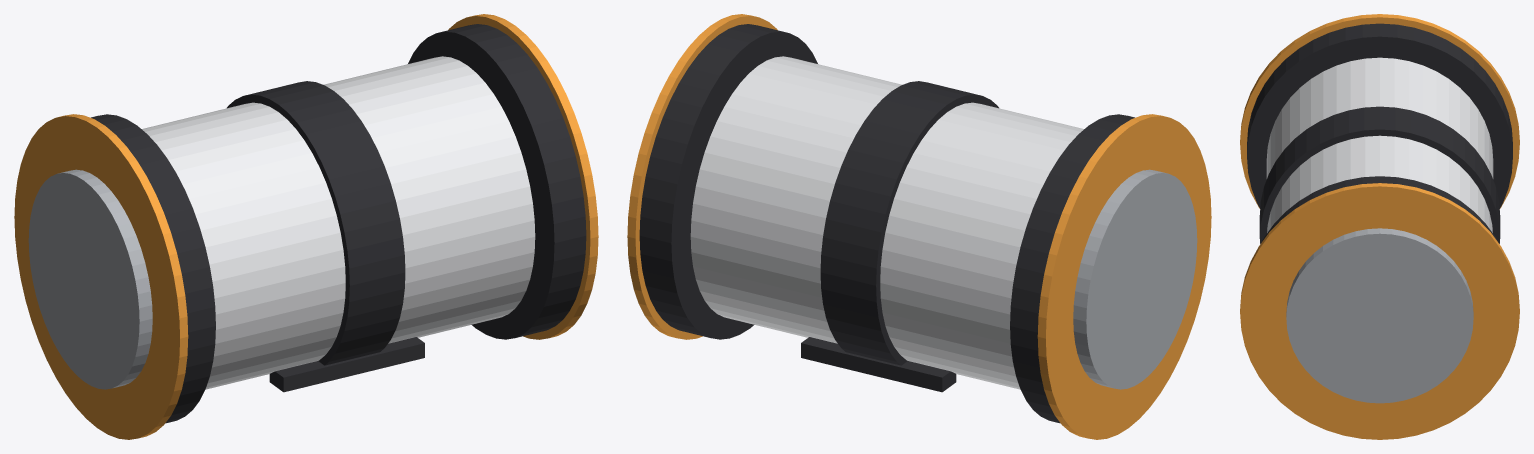
The model's file is SM_ModularTubeConnector.glb.
3 renders of one model, left to right at view 1: azimuth 30°, elevation 25°; view 2: azimuth 150°, elevation 25°; view 3: azimuth 270°, elevation 25°, orthographic. The views are drawn at different scales.
Visible parts, largest first — view 1: SM_ModularTubeConnector; view 2: SM_ModularTubeConnector; view 3: SM_ModularTubeConnector.
Boxes of the visible parts, x1,y1,x2,y2 form: SM_ModularTubeConnector: (14, 14, 598, 439); SM_ModularTubeConnector: (627, 14, 1211, 439); SM_ModularTubeConnector: (1240, 14, 1519, 439).
Bounding box in the file's own units: 4.4 × 2.84 × 2.84.
